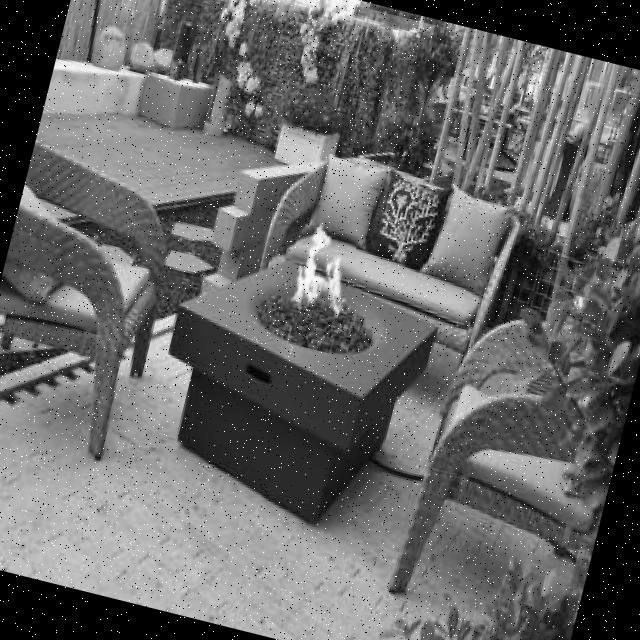fire: (280, 222, 358, 318)
